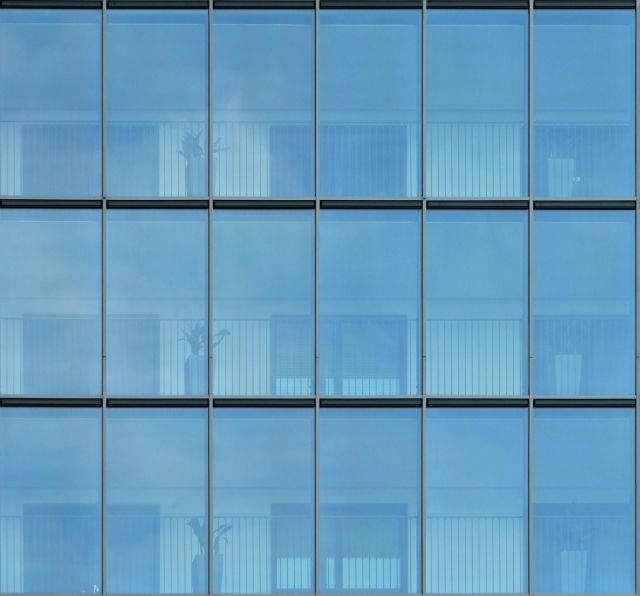glass panel: (533, 8, 635, 201), (425, 8, 527, 198), (213, 8, 314, 199), (105, 9, 207, 198), (318, 9, 420, 198), (105, 208, 207, 396), (533, 212, 636, 397), (1, 8, 101, 198), (318, 209, 419, 397), (0, 210, 101, 398), (425, 210, 526, 397), (533, 408, 635, 593), (212, 210, 313, 396), (424, 408, 526, 592), (0, 409, 100, 593), (213, 408, 313, 592), (319, 408, 419, 592), (106, 409, 206, 592), (424, 319, 526, 397)
